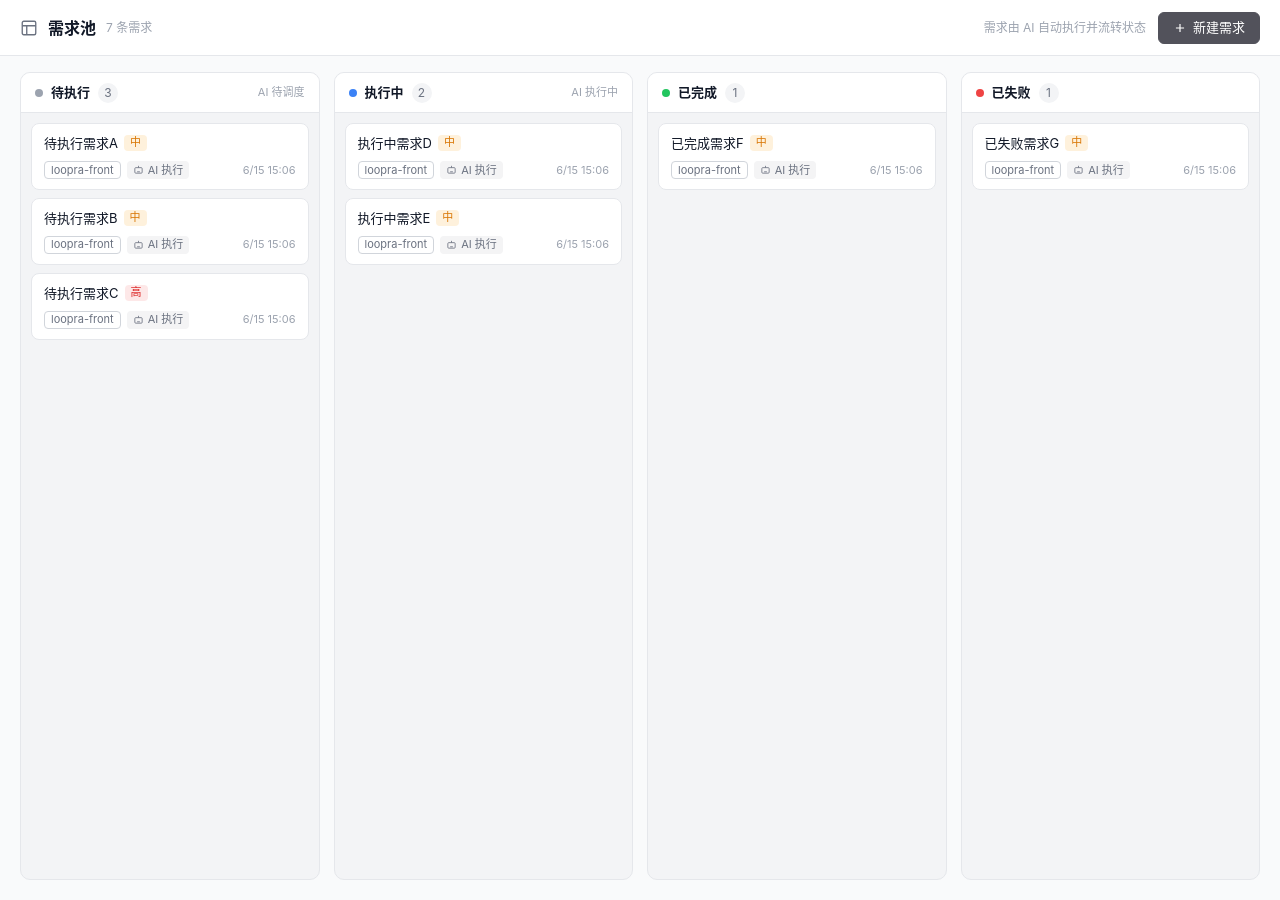
Test case: RequirementBoard 需求池看板（后端数据） › 点击卡片打开全屏详情并拉取消息流
The image size is (1280, 900).
Click the element with class "req-card" that starts with "待执行需求A" at (170, 156), box [31, 123, 308, 190]
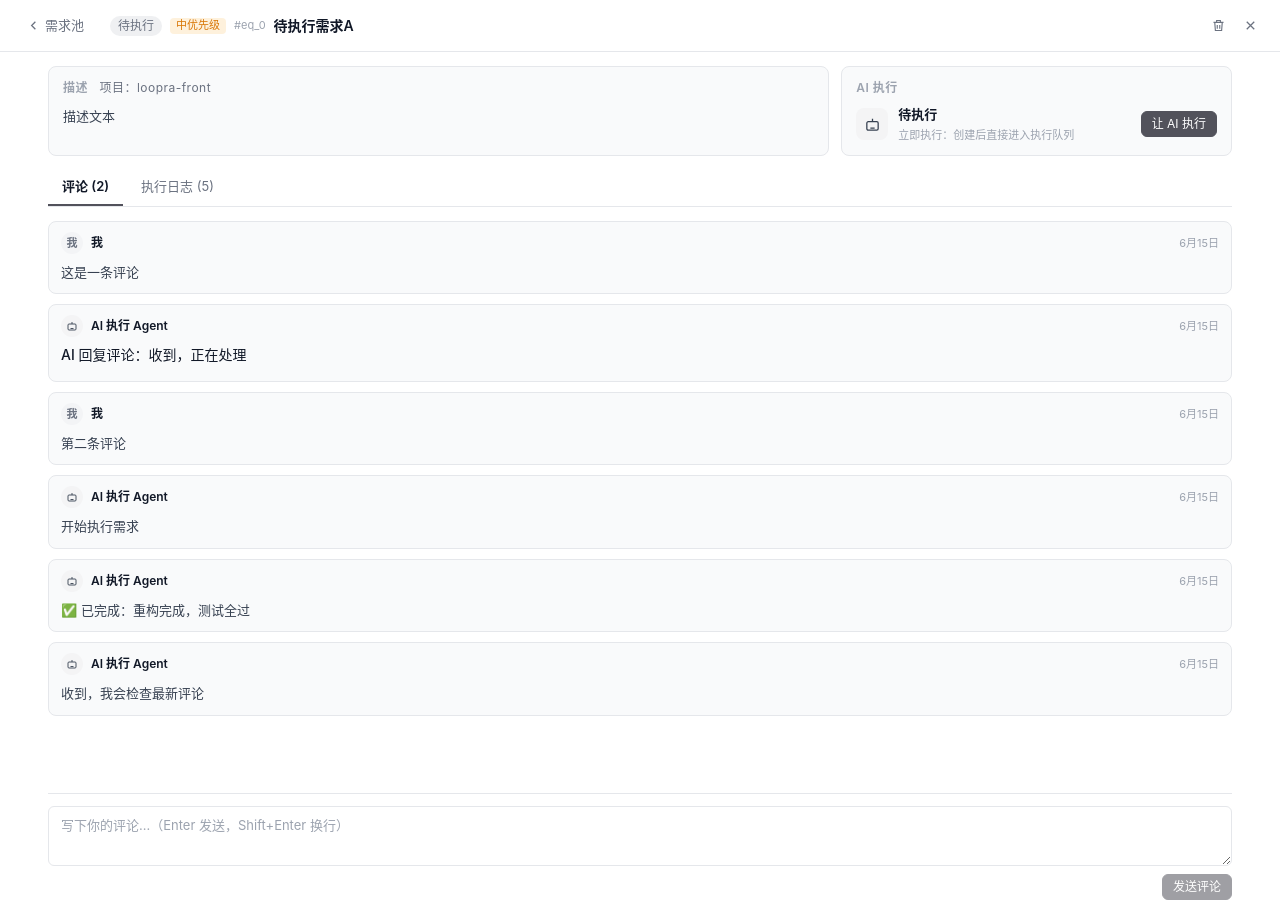
Check: the element with class "req-detail-view" is shown
Check: the element with class "req-info-desc" shows "项目：loopra-front", box [100, 80, 211, 95]
Check: the element with class "req-ai-box" is shown, box [856, 105, 1217, 143]
